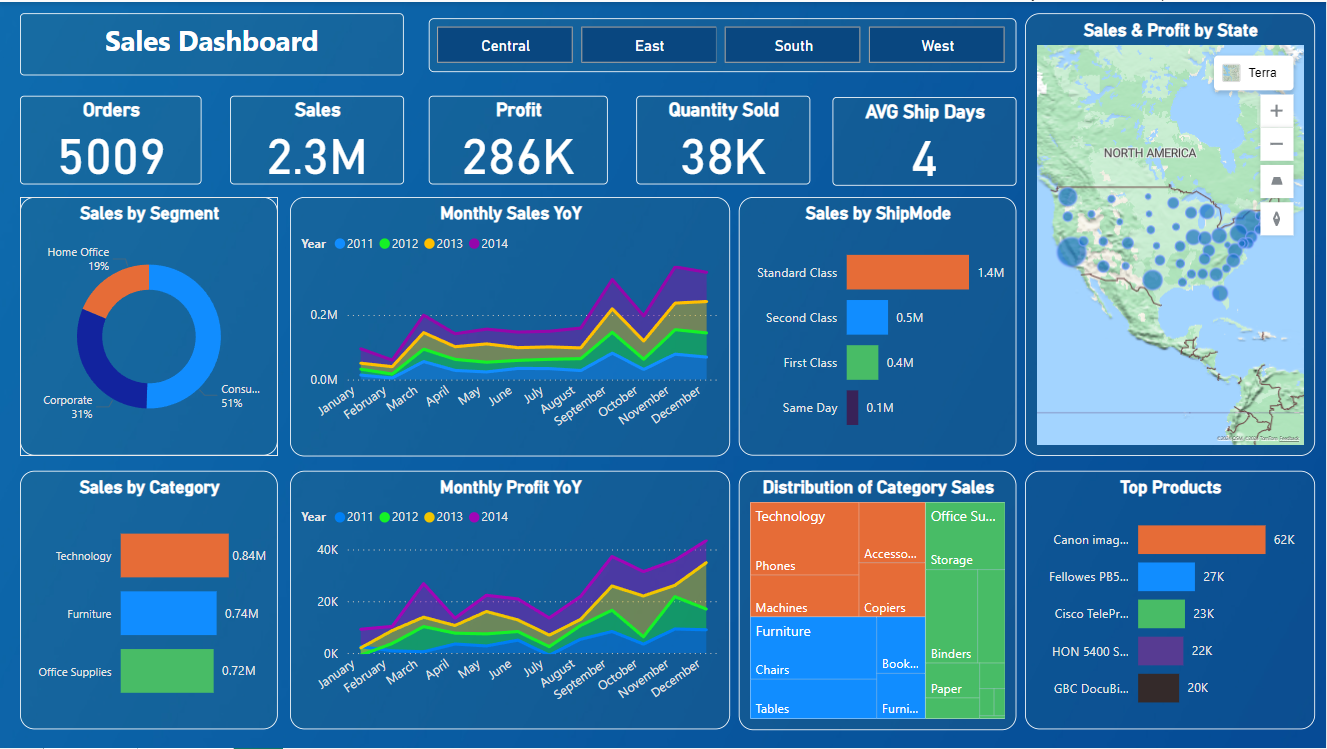

What the dashboard file says about the page in this screenshot:
{"tool":"powerbi","page":{"name":"Page 1","canvas":[1280,720],"ordinal":0},"visuals":[{"type":"barChart","title":"Sales by Category","fields":{"Category":["Worksheet.Category"],"Y":["Sum(Worksheet.Sales)"]},"box":[19.3,452.4,248.5,249.7],"z":0},{"type":"barChart","title":"Top Products","fields":{"Category":["Worksheet.Product Name"],"Y":["Sum(Worksheet.Sales)"]},"box":[989.3,452.4,279.9,249.7],"z":1000},{"type":"barChart","title":"Sales by ShipMode","fields":{"Y":["Sum(Worksheet.Sales)"],"Category":["Worksheet.Ship Mode"]},"box":[713,188.2,267.8,249.7],"z":2000},{"type":"stackedAreaChart","title":"Monthly Profit YoY","fields":{"Category":["Worksheet.Order Date.Variation.Date Hierarchy.Quarter","Worksheet.Order Date.Variation.Date Hierarchy.Month"],"Series":["Worksheet.Order Date.Variation.Date Hierarchy.Year"],"Y":["Sum(Worksheet.Profit)"]},"box":[279.9,452.4,424.7,249.7],"z":3000},{"type":"stackedAreaChart","title":"Monthly Sales YoY","fields":{"Category":["Worksheet.Order Date.Variation.Date Hierarchy.Quarter","Worksheet.Order Date.Variation.Date Hierarchy.Month"],"Series":["Worksheet.Order Date.Variation.Date Hierarchy.Year"],"Y":["Sum(Worksheet.Sales)"]},"box":[280,188.2,425,250],"z":4000},{"type":"azureMap","title":" Sales & Profit by State","fields":{"Category":["Worksheet.State"],"Size":["Sum(Worksheet.Sales)"]},"box":[989.3,10.9,279.9,427.1],"z":5000},{"type":"donutChart","title":"Sales by Segment","fields":{"Category":["Worksheet.Segment"],"Y":["Sum(Worksheet.Sales)"]},"box":[19.3,188.2,248.5,249.7],"z":6000},{"type":"advancedSlicerVisual","fields":{"Values":["Worksheet.Region"]},"box":[413.8,15.7,567,51.9],"z":7000},{"type":"textbox","box":[19.3,10.9,370.4,60.3],"z":8000},{"type":"card","title":"Sales","fields":{"Values":["Sum(Worksheet.Sales)"]},"box":[222,90.5,167.7,85.7],"z":9000},{"type":"card","title":"Profit","fields":{"Values":["Sum(Worksheet.Profit)"]},"box":[413.8,90.5,172.5,85.7],"z":10000},{"type":"card","title":"Orders","fields":{"Values":["Count(Worksheet.Order ID)"]},"box":[19.3,90.5,174.9,85.7],"z":11000},{"type":"card","title":"AVG Ship Days","fields":{"Values":["Avg(Worksheet.Avg delivery)"]},"box":[803.5,91.7,177.3,85.7],"z":12000},{"type":"treemap","title":" Distribution of Category Sales ","fields":{"Values":["Sum(Worksheet.Sales)"],"Group":["Worksheet.Category"],"Details":["Worksheet.Sub-Category"]},"box":[713,452,268,250],"z":13000},{"type":"card","title":"Quantity Sold","fields":{"Values":["Sum(Worksheet.Quantity)"]},"box":[614.1,90.5,167.7,85.7],"z":14000}]}

Visuals, with their boxes in screenshot pixels (x1, y1, x2, y2), scaled from the page's 1280x720 canvas onto the 1327x749 screenshot:
"Sales by Category" barChart: BBox(20, 471, 278, 730)
"Top Products" barChart: BBox(1026, 471, 1316, 730)
"Sales by ShipMode" barChart: BBox(739, 196, 1017, 456)
"Monthly Profit YoY" stackedAreaChart: BBox(290, 471, 730, 730)
"Monthly Sales YoY" stackedAreaChart: BBox(290, 196, 731, 456)
" Sales & Profit by State" azureMap: BBox(1026, 11, 1316, 456)
"Sales by Segment" donutChart: BBox(20, 196, 278, 456)
advancedSlicerVisual - Worksheet.Region: BBox(429, 16, 1017, 70)
textbox: BBox(20, 11, 404, 74)
"Sales" card: BBox(230, 94, 404, 183)
"Profit" card: BBox(429, 94, 608, 183)
"Orders" card: BBox(20, 94, 201, 183)
"AVG Ship Days" card: BBox(833, 95, 1017, 185)
" Distribution of Category Sales " treemap: BBox(739, 470, 1017, 730)
"Quantity Sold" card: BBox(637, 94, 811, 183)
